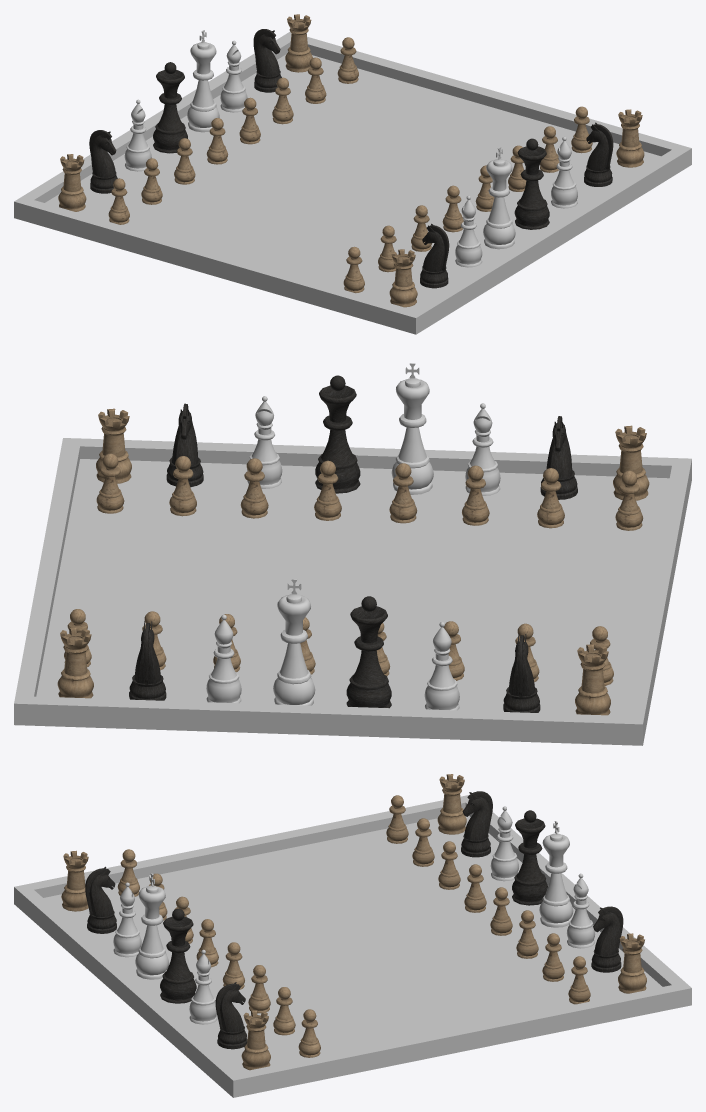
Rendered from Chess.fbx.
3 renders of one model, top to bottom at view 1: azimuth 30°, elevation 25°; view 2: azimuth 150°, elevation 25°; view 3: azimuth 270°, elevation 25°, orthographic. The views are drawn at different scales.
Parts seen in each view (by area): view 1: Table, BQueen, BKing, Queen, King, Horse, Horse.001, BHorse, BHorse2, BCastle, BCastle2, BBishop (+21 smaller); view 2: Table, Queen, King, BQueen, BKing, Castle.001, Castle, Bishop.001, Bishop, Horse, Horse.001, BCastle2 (+14 smaller); view 3: Table, BQueen, Queen, King, BKing, Horse, Horse.001, BHorse, BHorse2, Castle, Castle.001, Bishop.001 (+19 smaller).
Part boxes in pixels (x1,y1,x2,y2): Table: [14, 32, 691, 334]; BQueen: [514, 138, 549, 229]; BKing: [483, 147, 515, 249]; Queen: [153, 62, 187, 153]; King: [187, 30, 219, 132]; Horse: [89, 130, 117, 193]; Horse.001: [253, 29, 281, 92]; BHorse: [420, 223, 449, 288]; BHorse2: [584, 122, 613, 186]; BCastle: [616, 109, 644, 167]; BCastle2: [389, 249, 417, 307]; BBishop: [455, 195, 482, 267]; Table: [14, 438, 691, 745]; Queen: [346, 596, 391, 708]; King: [273, 579, 315, 705]; BQueen: [315, 375, 360, 493]; BKing: [391, 363, 433, 494]; Castle.001: [57, 627, 93, 698]; Castle: [575, 644, 610, 715]; Bishop.001: [206, 614, 241, 703]; Bishop: [424, 622, 459, 710]; Horse: [503, 633, 540, 712]; Horse.001: [129, 621, 166, 700]; BCastle2: [613, 425, 649, 500]; Table: [14, 795, 691, 1097]; BQueen: [160, 908, 196, 1003]; Queen: [512, 810, 547, 905]; King: [539, 821, 573, 927]; BKing: [135, 873, 169, 979]; Horse: [461, 791, 492, 857]; Horse.001: [591, 906, 623, 972]; BHorse: [85, 866, 116, 933]; BHorse2: [215, 982, 247, 1049]; Castle: [437, 774, 466, 834]; Castle.001: [618, 933, 646, 993]; Bishop.001: [566, 873, 595, 948].
Bounding box in the file's own units: 0.6199 × 0.1073 × 0.6199.
